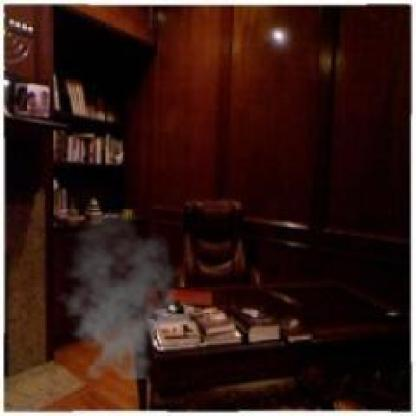Smoke: (50, 210, 182, 378)
